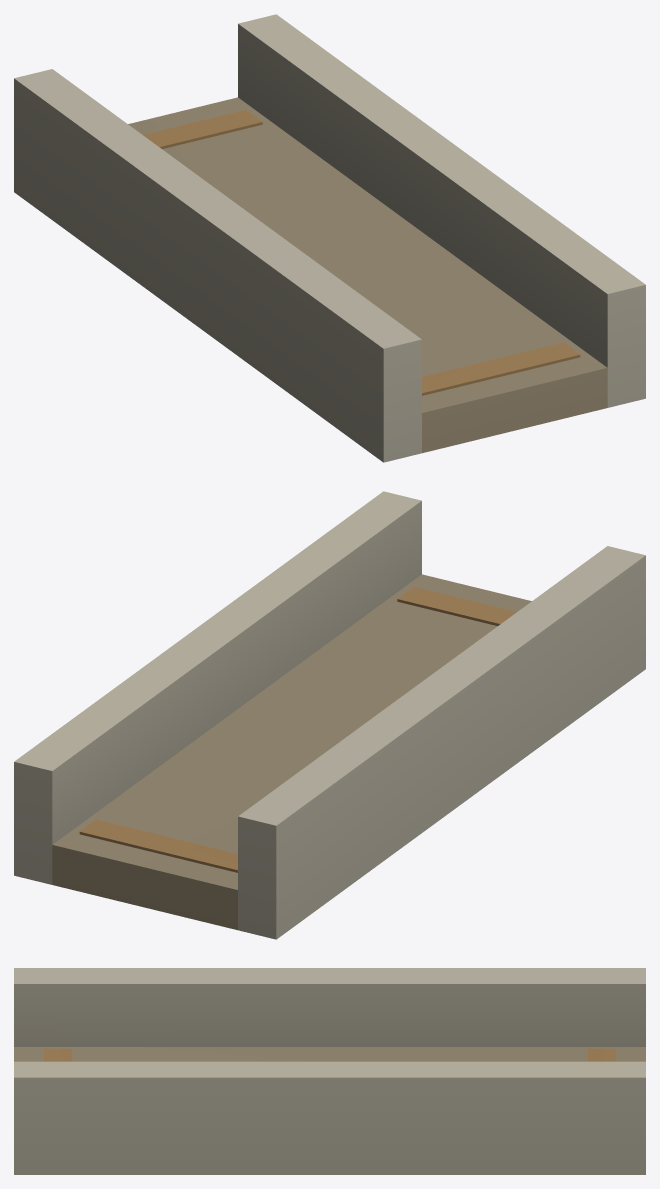
The model's file is channel_straight.glb.
3 views of the same model, one above another, from view 1: azimuth 30°, elevation 25°; view 2: azimuth 150°, elevation 25°; view 3: azimuth 270°, elevation 25° (orthographic). The views are drawn at different scales.
Parts seen in each view (by area): view 1: channel_straight; view 2: channel_straight; view 3: channel_straight.
Part boxes in pixels (box(x1,y1,x2,y2)): channel_straight: box(14, 14, 645, 462); channel_straight: box(14, 491, 645, 939); channel_straight: box(14, 968, 645, 1174).
Bounding box in the file's own units: 0.82 × 0.34 × 2.
